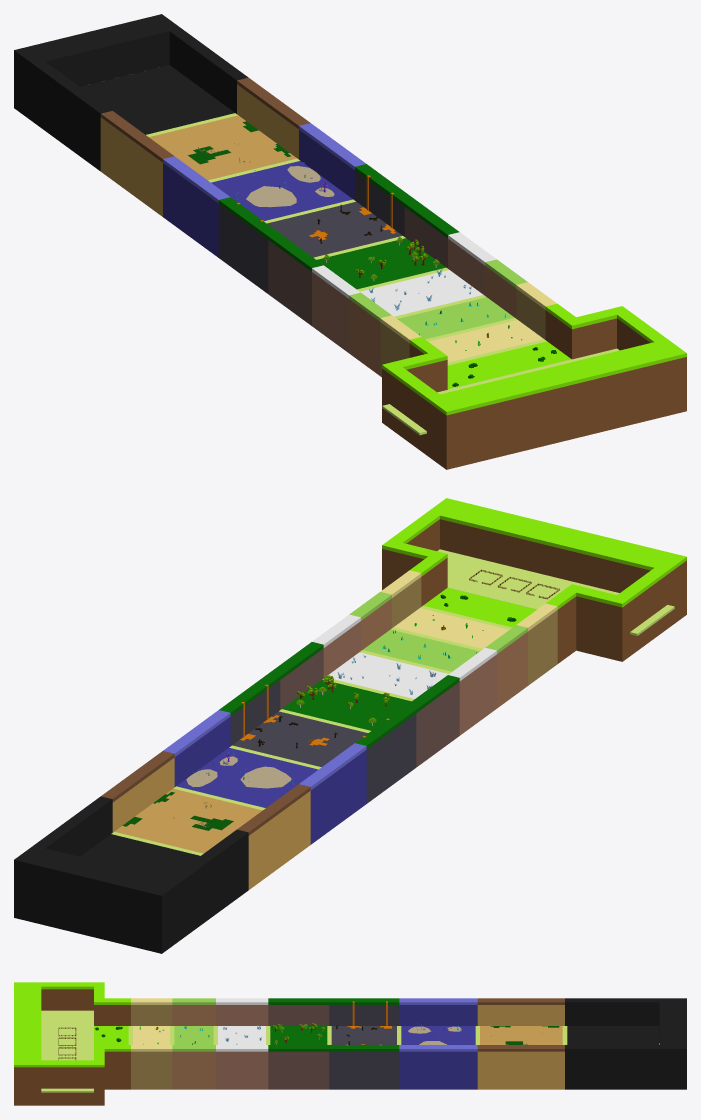
File: Map_RC69_Final.fbx
3 views of the same model, one above another, from view 1: azimuth 30°, elevation 25°; view 2: azimuth 150°, elevation 25°; view 3: azimuth 270°, elevation 25° (orthographic). The views are drawn at different scales.
Visible parts, largest first — view 1: Base_Tuong, Base_San, Vung_7; view 2: Base_Tuong, Base_San, Vung_7; view 3: Base_Tuong, Base_San, Vung_7, Vung_5.
Boxes of the visible parts, x1,y1,x2,y2 form: Base_Tuong: (14, 14, 686, 469); Base_San: (80, 65, 619, 435); Vung_7: (246, 166, 334, 207); Base_Tuong: (14, 498, 686, 953); Base_San: (80, 549, 674, 878); Vung_7: (186, 756, 291, 788); Base_Tuong: (14, 982, 686, 1105); Base_San: (41, 1010, 659, 1092); Vung_7: (408, 1026, 461, 1044); Vung_5: (272, 1023, 325, 1044).
Size of the model in its own units: 1995 by 436 by 6485.
